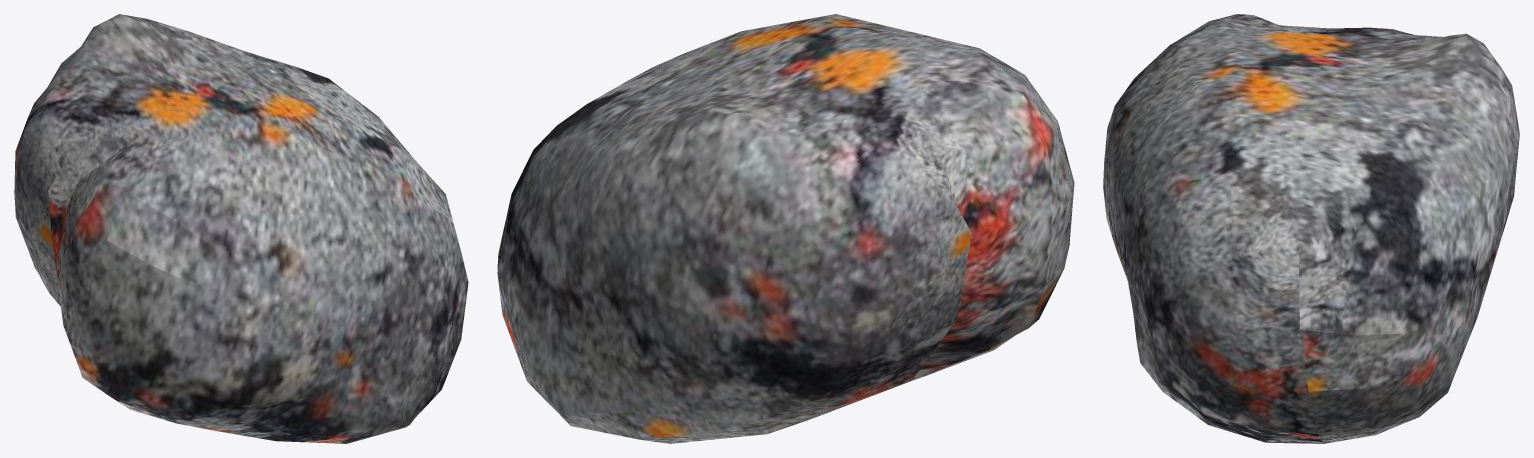
File: Heart_01.fbx
3 views of the same model, side by side, from view 1: azimuth 30°, elevation 25°; view 2: azimuth 150°, elevation 25°; view 3: azimuth 270°, elevation 25° (orthographic). The views are drawn at different scales.
Visible parts, largest first — view 1: Box002; view 2: Box002; view 3: Box002.
Part boxes in pixels (bbox=[...]): Box002: bbox=[14, 14, 468, 443]; Box002: bbox=[497, 14, 1074, 443]; Box002: bbox=[1103, 14, 1519, 443].
Bounding box in the file's own units: 8.02 × 6.84 × 7.72.
Materials: 1 (1 with a texture image).
